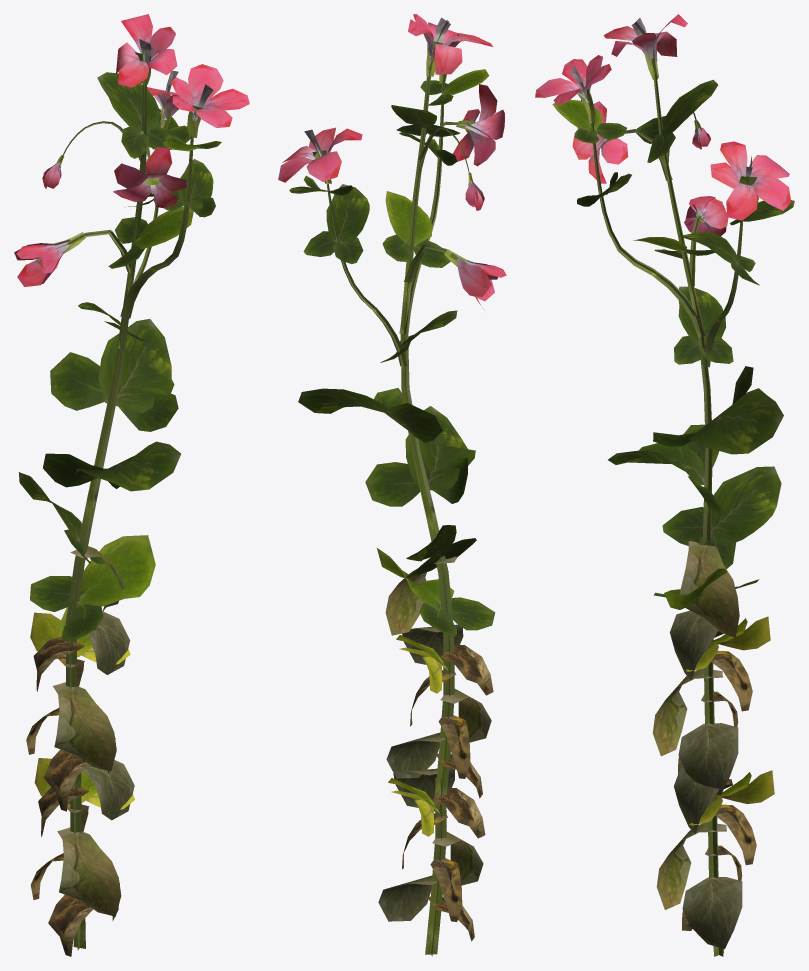
Rendered from Periwinkle_bush_short_red.glb.
The picture shows the model from 3 angles, left to right: view 1: azimuth 30°, elevation 25°; view 2: azimuth 150°, elevation 25°; view 3: azimuth 270°, elevation 25°; orthographic projection. The views are drawn at different scales.
Parts seen in each view (by area): view 1: _419c_Var3_LOD1.2; view 2: _419c_Var3_LOD1.2; view 3: _419c_Var3_LOD1.2.
Part boxes in pixels (x1,y1,x2,y2): _419c_Var3_LOD1.2: (14,14,249,956); _419c_Var3_LOD1.2: (278,14,506,956); _419c_Var3_LOD1.2: (535,14,794,956).
Bounding box in the file's own units: 0.6129 × 2.59 × 0.6394.
Materials: 1 (1 with a texture image).
